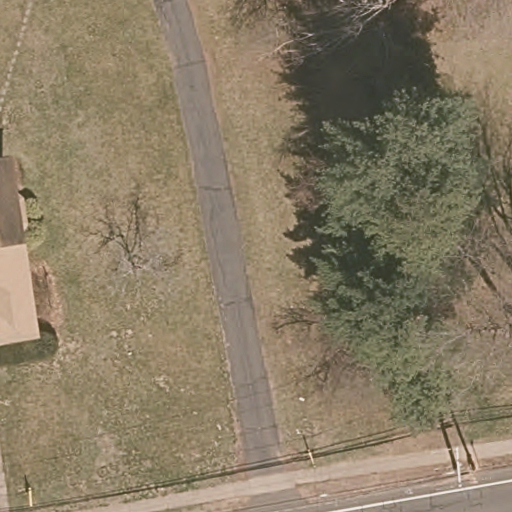DT: (452, 443, 465, 488)
